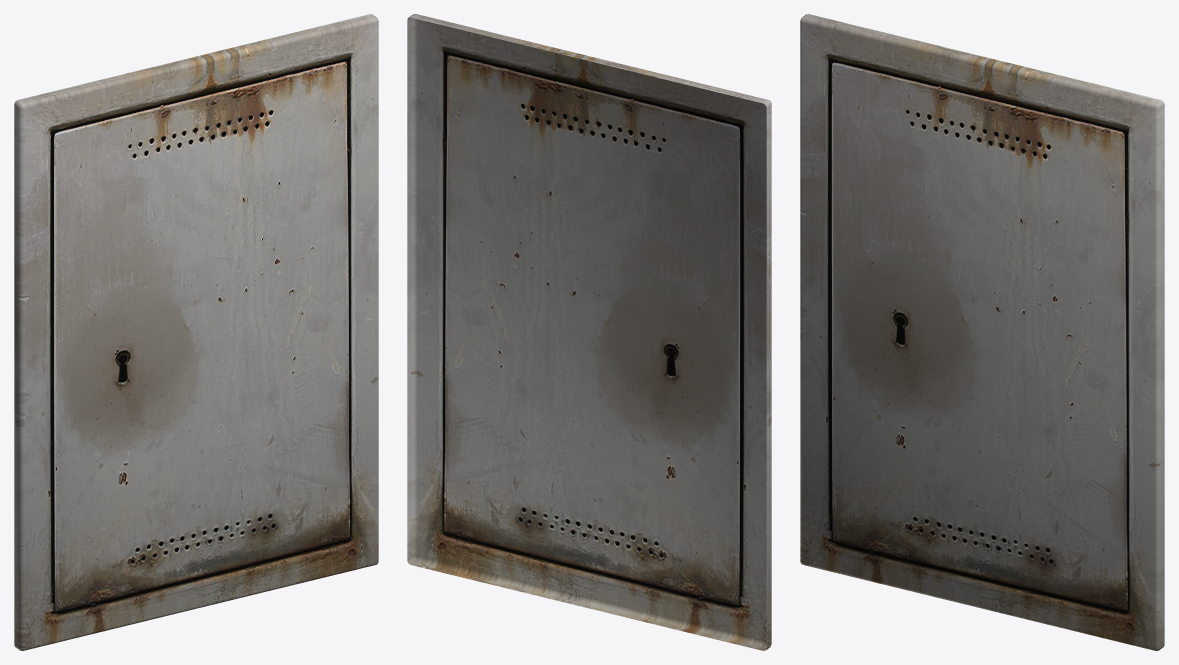
Rendered from PowerBox02.FBX.
The picture shows the model from 3 angles, left to right: view 1: azimuth 30°, elevation 25°; view 2: azimuth 150°, elevation 25°; view 3: azimuth 330°, elevation 25°; orthographic projection.
Visible parts, largest first — view 1: PowerBox02Metal; view 2: PowerBox02Metal; view 3: PowerBox02Metal.
Part boxes in pixels (bbox=[...]): PowerBox02Metal: bbox=[14, 14, 378, 650]; PowerBox02Metal: bbox=[407, 14, 771, 650]; PowerBox02Metal: bbox=[800, 14, 1164, 650].
Bounding box in the file's own units: 58.25 × 84.74 × 1.87.
